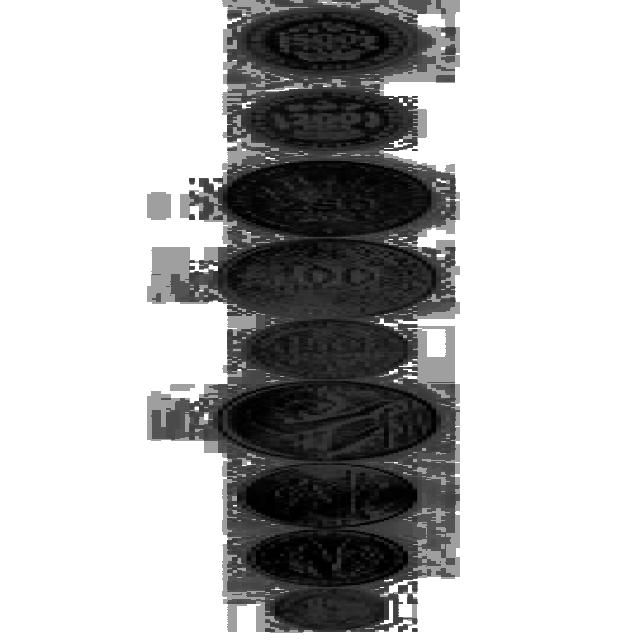derem: (252, 530, 404, 584)
fukk: (249, 320, 408, 379)
juroom derem: (224, 382, 435, 458)
juroom fukk: (231, 162, 428, 235)
niaari derem: (245, 465, 411, 525)
niaari fukk: (221, 240, 435, 318)
nient fukk: (249, 91, 408, 149)
teemeer: (249, 12, 414, 72)
